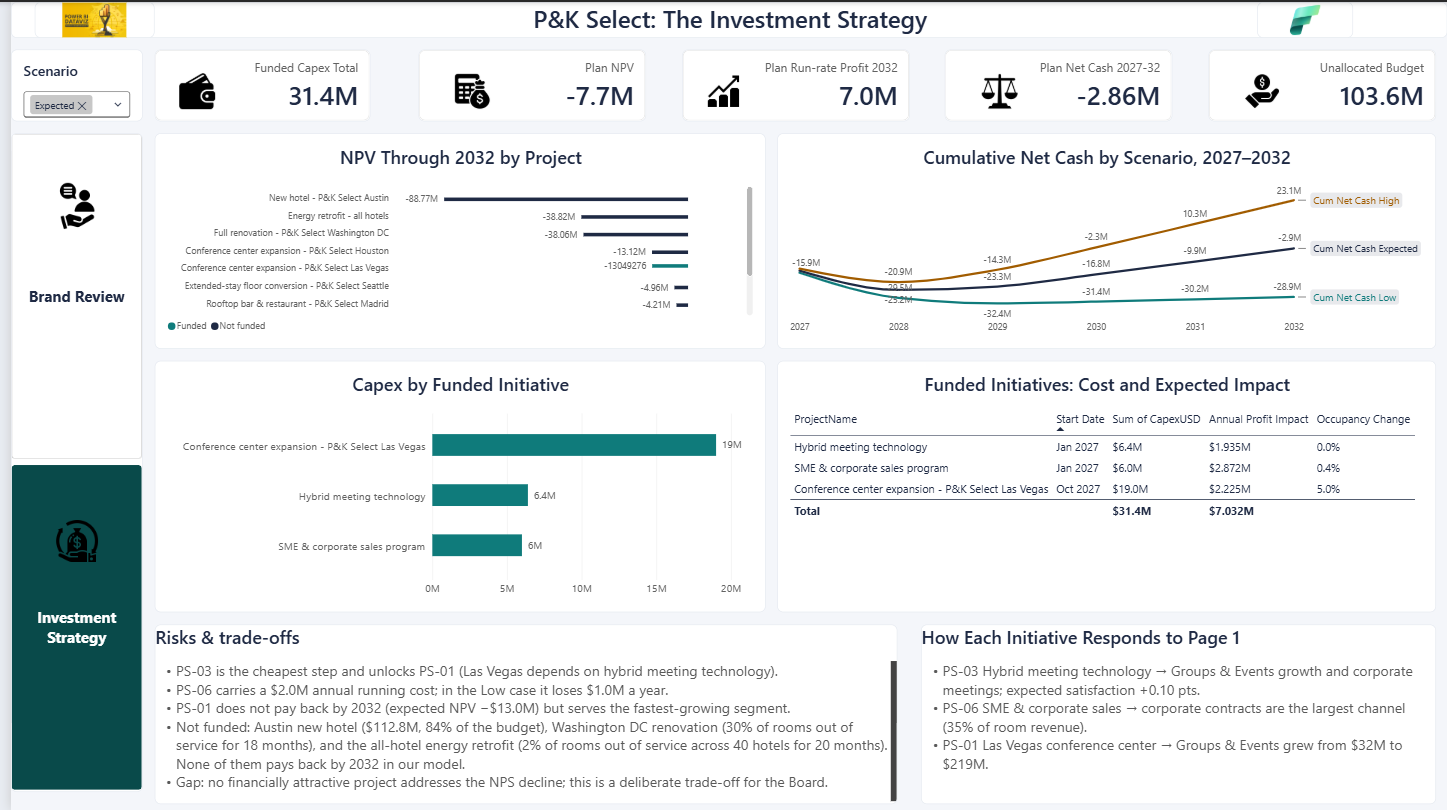

The dashboard page shown, as its layout file describes it:
{"tool":"powerbi","page":{"name":"Investment Strategy","canvas":[1920,1080],"ordinal":1},"visuals":[{"type":"shape","title":"P&K Select: The Investment Strategy","box":[0,0,1920,48],"z":0},{"type":"image","title":"World Champs Logo","box":[32,0,160,48],"z":1000},{"type":"image","title":"Fabric Icon","box":[1664,0,128,48],"z":2000},{"type":"cardVisual","fields":{"Data":["DAX.Funded Capex Total"]},"box":[192,64,288,96],"z":3000},{"type":"cardVisual","fields":{"Data":["DAX.Plan NPV"]},"box":[544,64,304,96],"z":4000},{"type":"cardVisual","fields":{"Data":["DAX.Plan Net Cash 2027-32"]},"box":[1248,64,304,96],"z":5000},{"type":"cardVisual","fields":{"Data":["DAX.Plan Run-rate Profit 2032"]},"box":[896,64,304,96],"z":6000},{"type":"clusteredBarChart","title":"NPV Through 2032 by Project","fields":{"Category":["InvestmentProjects.ProjectName"],"Series":["InvestmentProjects.Decision"],"Y":["DAX.NPV 2032"]},"box":[192,176,816,288],"z":7000},{"type":"lineChart","title":"Cumulative Net Cash by Scenario, 2027–2032","fields":{"Category":["ProjectMonths.Year"],"Y":["DAX.Cum Net Cash Low","DAX.Cum Net Cash Expected","DAX.Cum Net Cash High"]},"box":[1024,176,880,288],"z":8000},{"type":"tableEx","title":"Funded Initiatives: Cost and Expected Impact","fields":{"Values":["InvestmentProjects.ProjectName","InvestmentProjects.Start Date","Sum(InvestmentProjects.CapexUSD)","DAX.Annual Profit Impact (run-rate)","DAX.Occupancy Change (pts)"]},"box":[1024,480,880,336],"z":9000},{"type":"textbox","title":"Risks & trade-offs","box":[192,832,992,240],"z":10000},{"type":"textbox","title":"How Each Initiative Responds to Page 1","box":[1216,832,688,240],"z":11000},{"type":"barChart","title":"Capex by Funded Initiative","fields":{"Category":["InvestmentProjects.ProjectName"],"Y":["DAX.Capex"]},"box":[192,480,816,336],"z":12000},{"type":"cardVisual","fields":{"Data":["DAX.Unallocated Budget"]},"box":[1600,64,304,96],"z":13000},{"type":"listSlicer","fields":{"Values":["Scenario.Scenario"]},"box":[0,64,176,96],"z":14000},{"type":"pageNavigator","box":[0,176,176,880],"z":15000},{"type":"image","box":[208,96,80,48],"z":16000},{"type":"image","box":[1632,96,80,48],"z":17000},{"type":"image","box":[48,240,80,64],"z":18000},{"type":"image","box":[48,688,80,64],"z":19000},{"type":"image","box":[576,96,80,48],"z":20000},{"type":"image","box":[912,96,80,48],"z":21000},{"type":"image","box":[1280,96,80,48],"z":22000}]}

Visuals, with their boxes in screenshot pixels (x1, y1, x2, y2), scaled from the page's 1920x1080 canvas onto the 1447x810 screenshot:
"P&K Select: The Investment Strategy" shape: [0,0,1446,36]
"World Champs Logo" image: [24,0,145,36]
"Fabric Icon" image: [1254,0,1351,36]
cardVisual - DAX.Funded Capex Total: [145,48,362,120]
cardVisual - DAX.Plan NPV: [410,48,639,120]
cardVisual - DAX.Plan Net Cash 2027-32: [941,48,1170,120]
cardVisual - DAX.Plan Run-rate Profit 2032: [675,48,904,120]
"NPV Through 2032 by Project" clusteredBarChart: [145,132,760,348]
"Cumulative Net Cash by Scenario, 2027–2032" lineChart: [772,132,1435,348]
"Funded Initiatives: Cost and Expected Impact" tableEx: [772,360,1435,612]
"Risks & trade-offs" textbox: [145,624,892,804]
"How Each Initiative Responds to Page 1" textbox: [916,624,1435,804]
"Capex by Funded Initiative" barChart: [145,360,760,612]
cardVisual - DAX.Unallocated Budget: [1206,48,1435,120]
listSlicer - Scenario.Scenario: [0,48,133,120]
pageNavigator: [0,132,133,792]
image: [157,72,217,108]
image: [1230,72,1290,108]
image: [36,180,96,228]
image: [36,516,96,564]
image: [434,72,494,108]
image: [687,72,748,108]
image: [965,72,1025,108]
